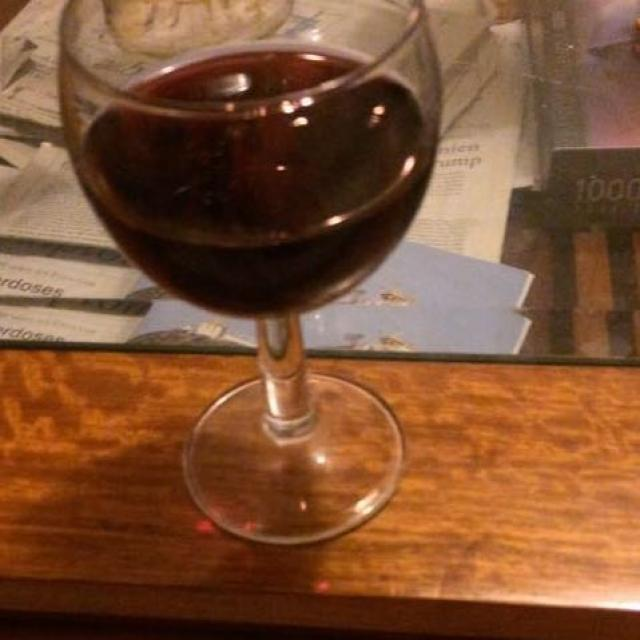wine: (82, 50, 442, 320)
